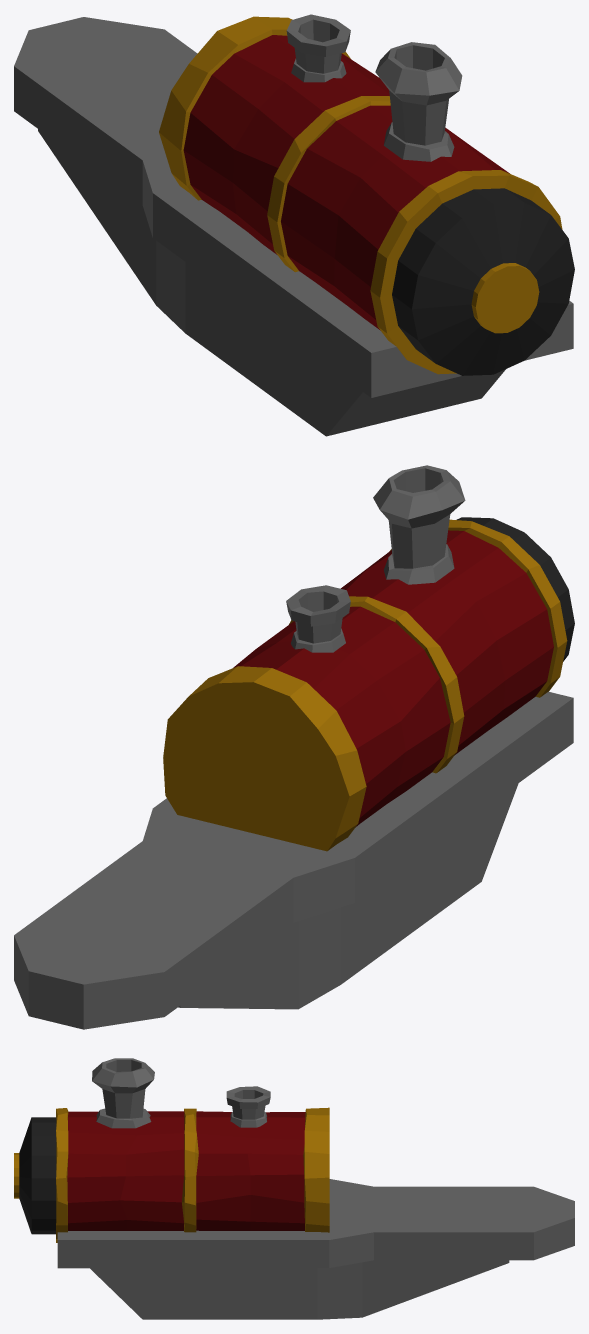
The model's file is Train_Engine.fbx.
The picture shows the model from 3 angles, top to bottom: view 1: azimuth 30°, elevation 25°; view 2: azimuth 150°, elevation 25°; view 3: azimuth 270°, elevation 25°; orthographic projection. The views are drawn at different scales.
Visible parts, largest first — view 1: Pipe2; view 2: Pipe2; view 3: Pipe2.
Part boxes in pixels (bbox=[...]): Pipe2: bbox=[14, 14, 574, 436]; Pipe2: bbox=[14, 465, 574, 1029]; Pipe2: bbox=[14, 1058, 574, 1319].
Size of the model in its own units: 210 by 369 by 810.
